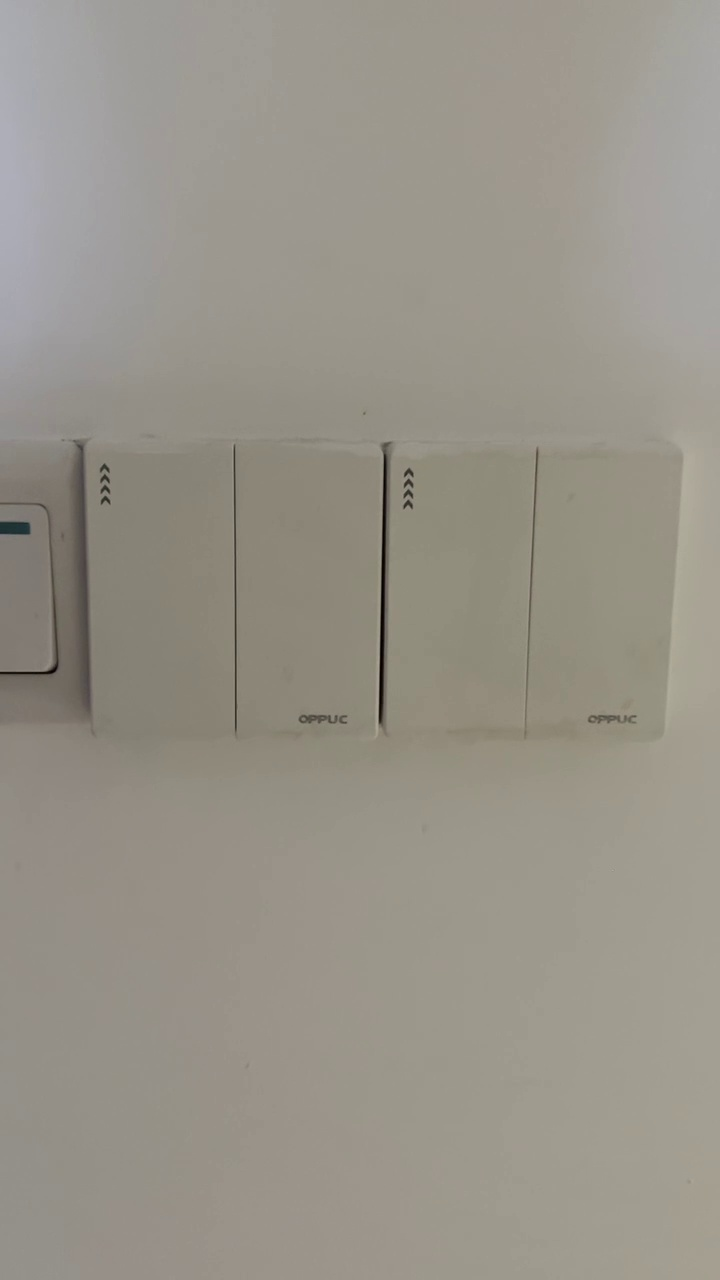button1: (86, 446, 231, 733), (240, 446, 381, 734), (533, 447, 673, 734), (388, 450, 529, 733)
